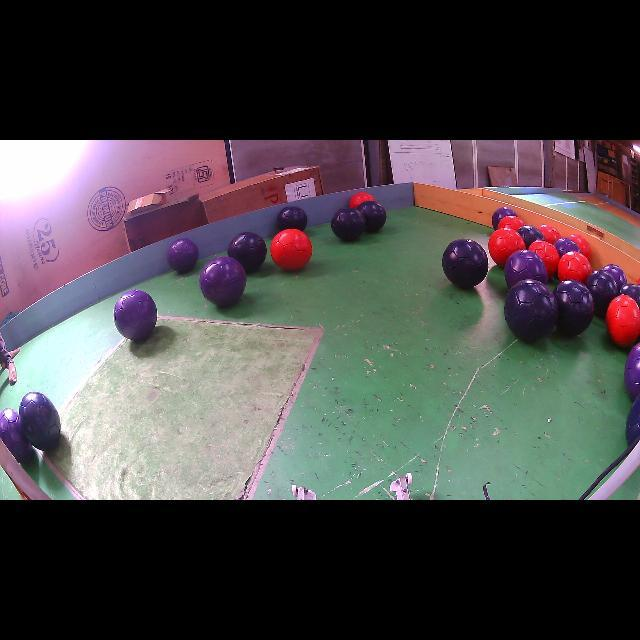B: (504, 280, 558, 342), (19, 391, 61, 450), (442, 239, 489, 289), (554, 280, 594, 336), (586, 270, 619, 318), (228, 232, 266, 272), (331, 208, 366, 241), (358, 201, 386, 232), (276, 206, 308, 231), (625, 394, 640, 444), (518, 225, 545, 248), (620, 284, 640, 308)
P: (199, 256, 246, 306), (114, 290, 158, 340), (0, 409, 32, 464), (505, 250, 548, 288), (168, 239, 199, 272), (624, 342, 640, 401), (602, 264, 628, 289), (491, 206, 516, 229), (554, 238, 581, 258)
R: (606, 295, 640, 348), (270, 229, 312, 270), (489, 228, 525, 268), (529, 241, 560, 278), (558, 251, 592, 284), (569, 234, 591, 260), (498, 215, 525, 231), (539, 225, 561, 244), (349, 192, 375, 208)
